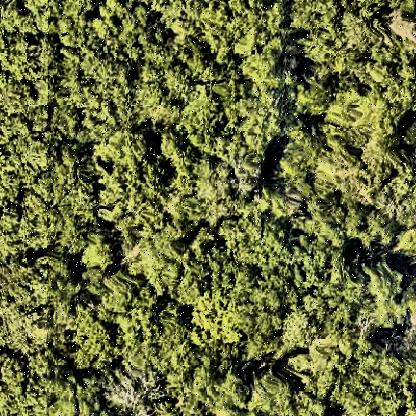tree-top: (92, 130, 182, 235), (287, 1, 416, 69), (156, 1, 280, 58), (328, 350, 412, 414), (187, 289, 250, 349), (68, 303, 121, 373), (366, 255, 408, 335), (103, 364, 167, 416), (246, 366, 299, 416), (295, 73, 343, 122), (80, 233, 118, 275)
